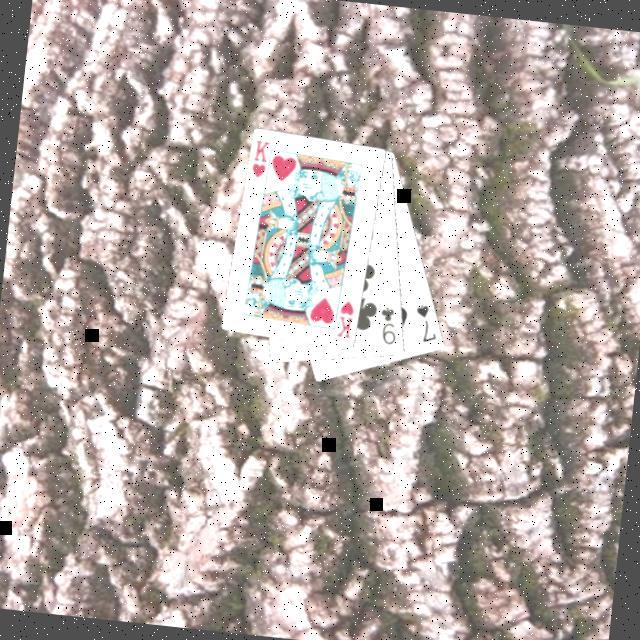7S: (411, 302, 444, 349)
9C: (375, 305, 403, 351)
KH: (250, 138, 275, 184), (334, 299, 359, 343)
